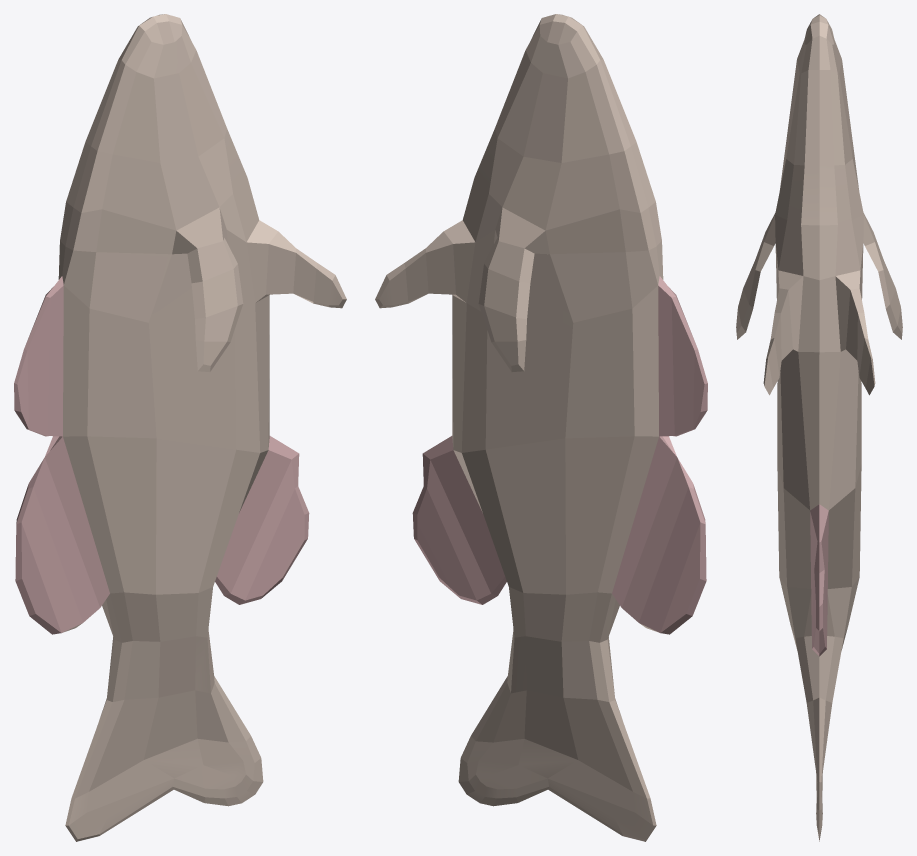
The model's file is BrownFish.fbx.
The picture shows the model from 3 angles, left to right: view 1: azimuth 30°, elevation 25°; view 2: azimuth 150°, elevation 25°; view 3: azimuth 270°, elevation 25°; orthographic projection. The views are drawn at different scales.
Parts seen in each view (by area): view 1: BrownFish; view 2: BrownFish; view 3: BrownFish.
Part boxes in pixels (<box>): BrownFish: <box>14,14,346,841</box>; BrownFish: <box>375,14,707,841</box>; BrownFish: <box>736,14,902,841</box>.
Bounding box in the file's own units: 1103 × 2797 × 539.
